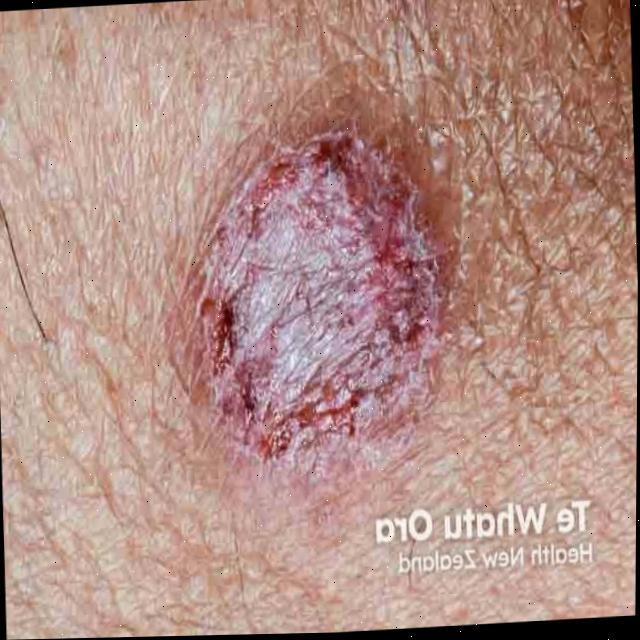Eczema: (220, 149, 453, 414)
